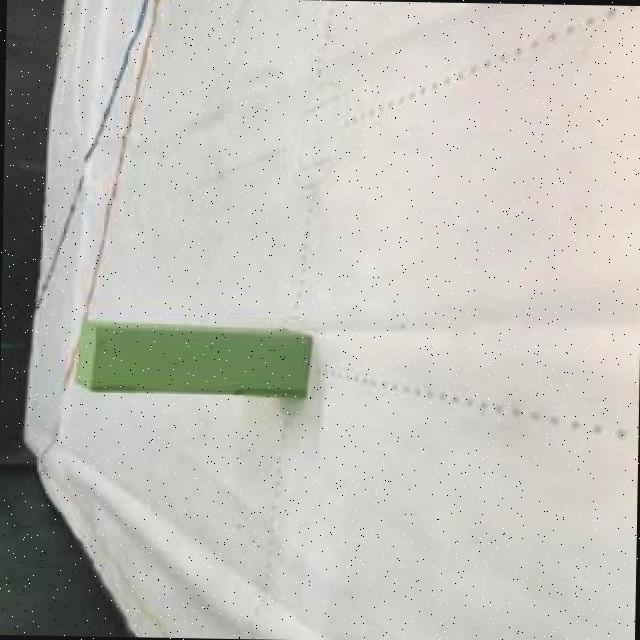greenbox: (67, 318, 310, 396)
